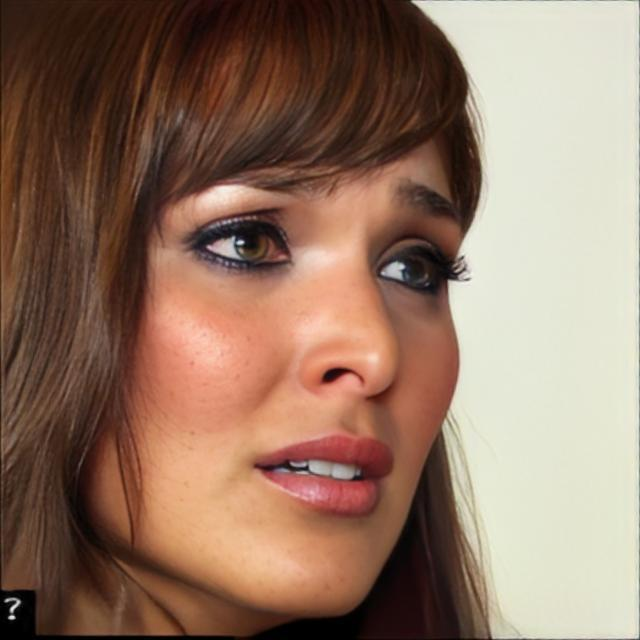sad: (77, 44, 467, 621)
